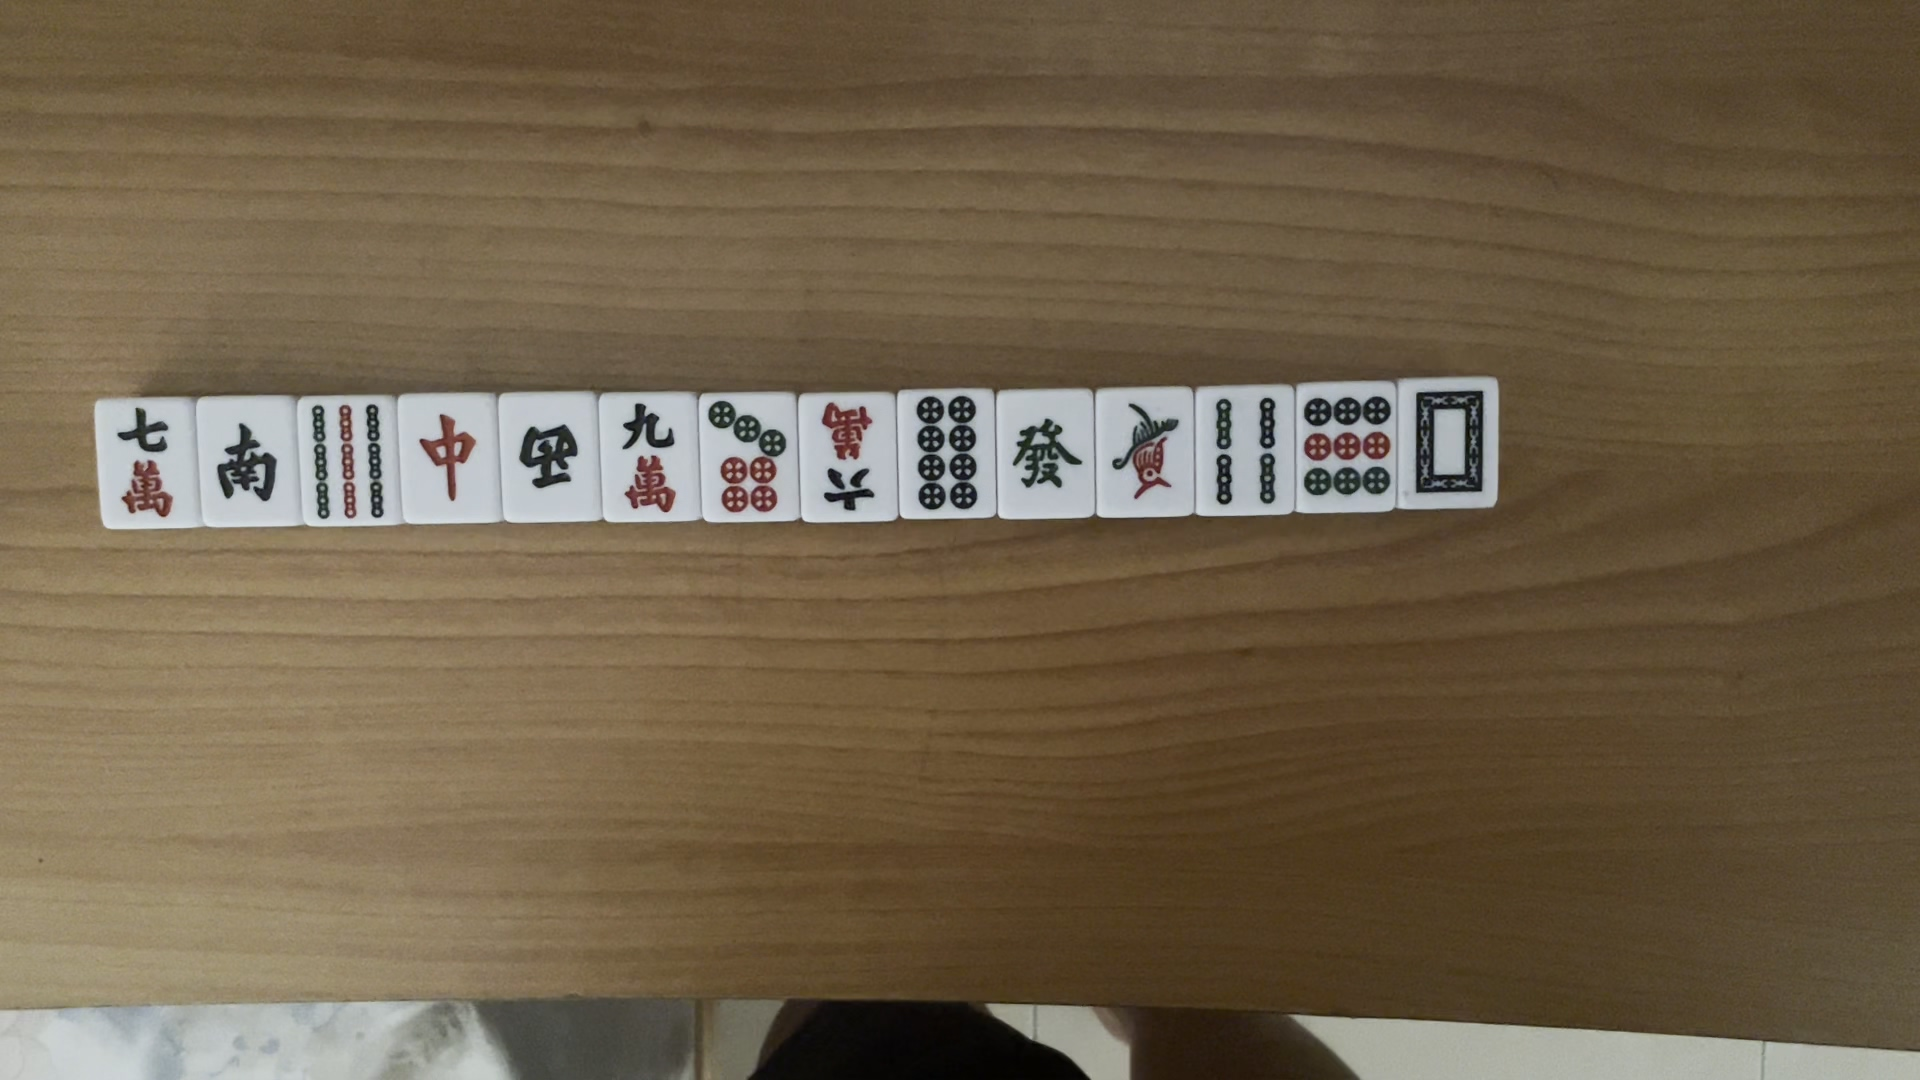b-1: (1109, 396, 1189, 505)
b-4: (1211, 392, 1286, 514)
b-9: (306, 401, 393, 522)
c-6: (812, 400, 886, 520)
c-7: (103, 402, 186, 527)
c-9: (607, 396, 680, 517)
d-7: (703, 400, 794, 518)
d-8: (899, 396, 986, 516)
d-9: (1302, 385, 1391, 505)
honors-green: (1009, 415, 1091, 495)
honors-red: (410, 407, 476, 508)
honors-south: (204, 411, 291, 517)
honors-west: (510, 409, 584, 493)
honors-white: (1407, 386, 1489, 501)
